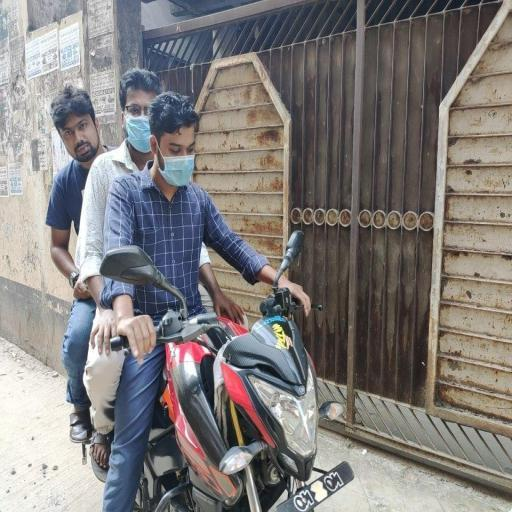no helmet: (132, 77, 213, 204)
triple riding: (29, 60, 354, 512)
